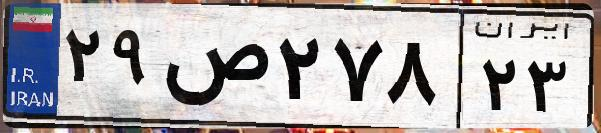2: (270, 28, 330, 110), (57, 26, 110, 100), (475, 38, 525, 113)
3: (525, 38, 570, 115)
7: (330, 28, 385, 110)
8: (385, 28, 445, 110)
9: (110, 28, 158, 98)
ص: (158, 20, 270, 120)
